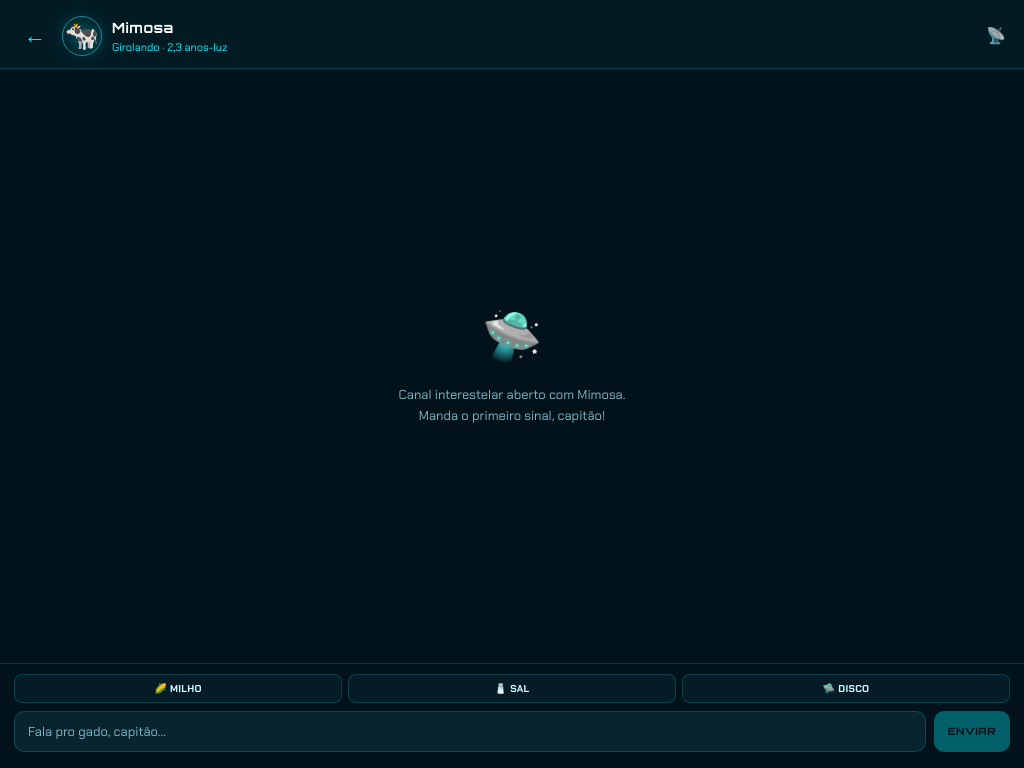
Scenario: ChatModal › digitar e submeter form adiciona bolha do alien com o texto
In the field with placeholder "Fala pro gado, capitão...": coordinates (470, 731) top-left (14, 710), bottom-right (926, 752), type "Oi Mimosa!"
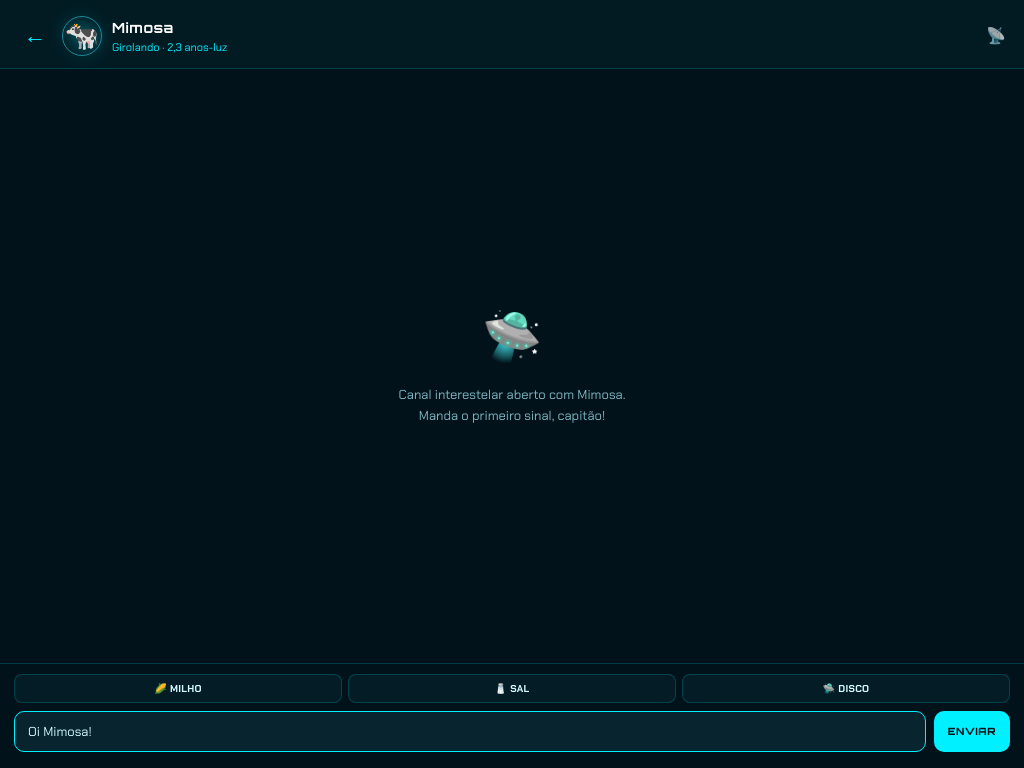
Click the button "ENVIAR": coordinates (972, 731) top-left (934, 710), bottom-right (1010, 752)
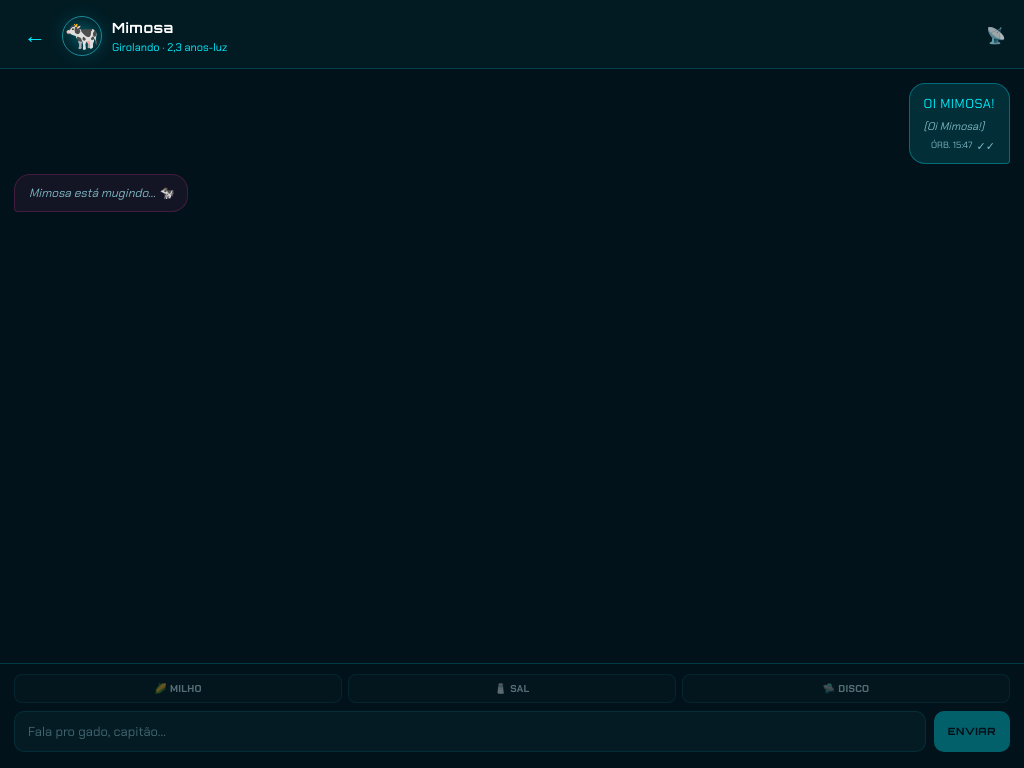
Now the text "OI MIMOSA!" is shown, box top-left (924, 94), bottom-right (995, 114)
